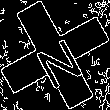N_NW: (25, 23, 85, 87)
